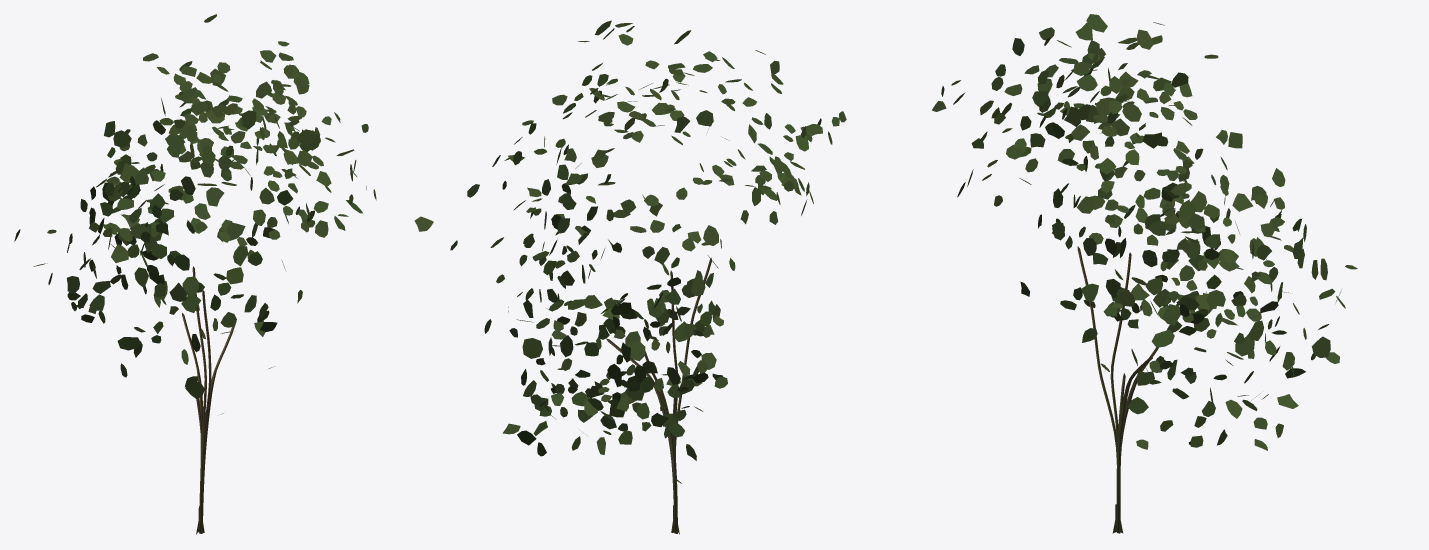
The model's file is SM_TreeFar_hazel_0.glb.
The picture shows the model from 3 angles, left to right: view 1: azimuth 30°, elevation 25°; view 2: azimuth 150°, elevation 25°; view 3: azimuth 270°, elevation 25°; orthographic projection. The views are drawn at different scales.
Parts seen in each view (by area): view 1: SM_TreeFar_hazel_0; view 2: SM_TreeFar_hazel_0; view 3: SM_TreeFar_hazel_0.
Boxes of the visible parts, x1,y1,x2,y2 form: SM_TreeFar_hazel_0: (14, 14, 376, 534); SM_TreeFar_hazel_0: (414, 20, 846, 534); SM_TreeFar_hazel_0: (932, 14, 1357, 533).
Bounding box in the file's own units: 4.86 × 6.52 × 5.6.
